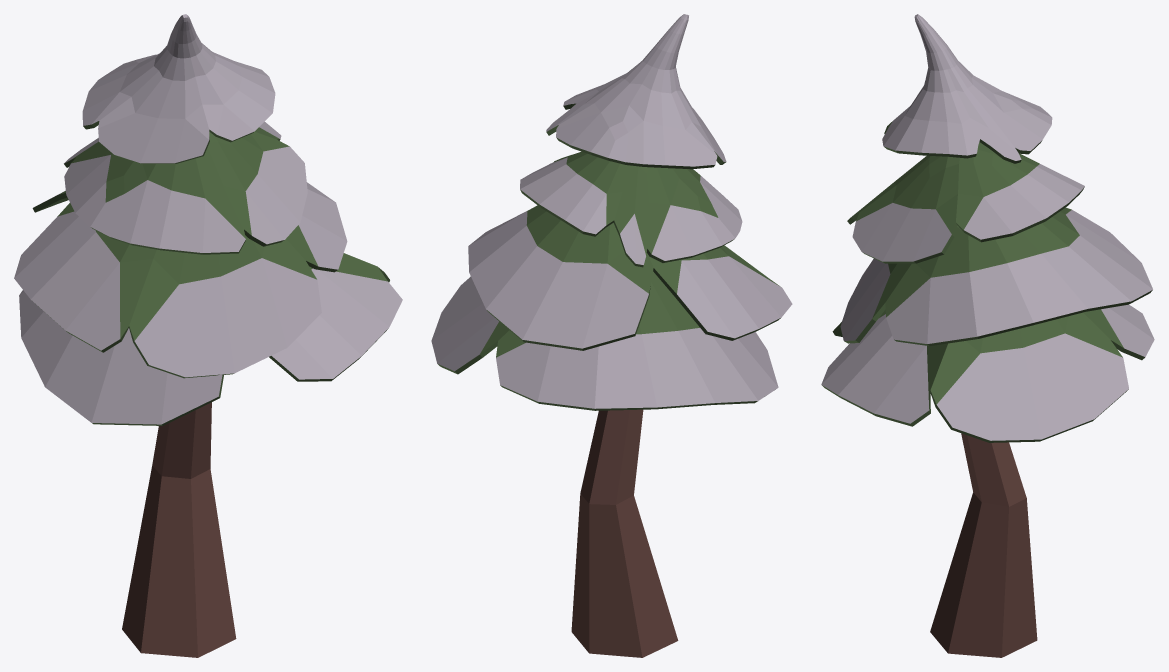
File: pine_snow5.glb
3 views of the same model, side by side, from view 1: azimuth 30°, elevation 25°; view 2: azimuth 150°, elevation 25°; view 3: azimuth 270°, elevation 25° (orthographic). The views are drawn at different scales.
Parts seen in each view (by area): view 1: PineTree_Snow_5; view 2: PineTree_Snow_5; view 3: PineTree_Snow_5.
Part boxes in pixels (x1=…): PineTree_Snow_5: x1=14, y1=14, x2=402, y2=657; PineTree_Snow_5: x1=431, y1=14, x2=792, y2=657; PineTree_Snow_5: x1=821, y1=14, x2=1154, y2=657.
Size of the model in its own units: 1.47 by 2.69 by 1.34.
